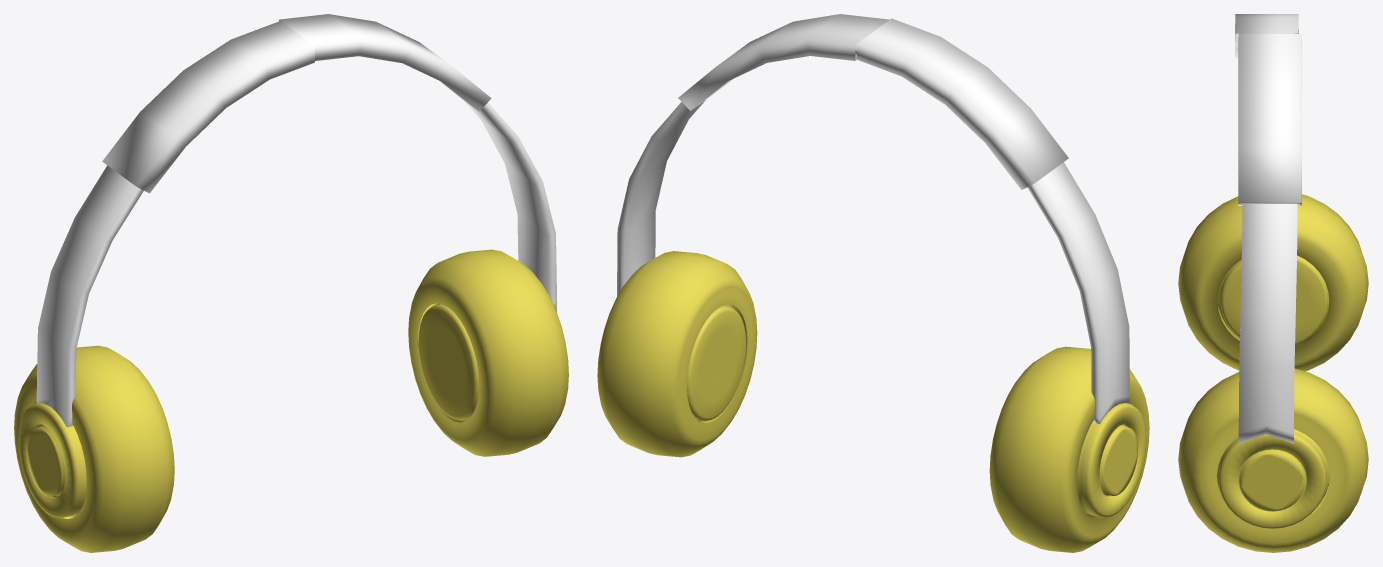
The model's file is headphones.glb.
The picture shows the model from 3 angles, left to right: view 1: azimuth 30°, elevation 25°; view 2: azimuth 150°, elevation 25°; view 3: azimuth 270°, elevation 25°; orthographic projection. The views are drawn at different scales.
Visible parts, largest first — view 1: Circle.004; view 2: Circle.004; view 3: Circle.004.
Part boxes in pixels (x1,y1,x2,y2): Circle.004: (14,14,568,552); Circle.004: (597,14,1149,552); Circle.004: (1178,14,1368,552).
Bounding box in the file's own units: 7.42 × 6.64 × 2.7.
